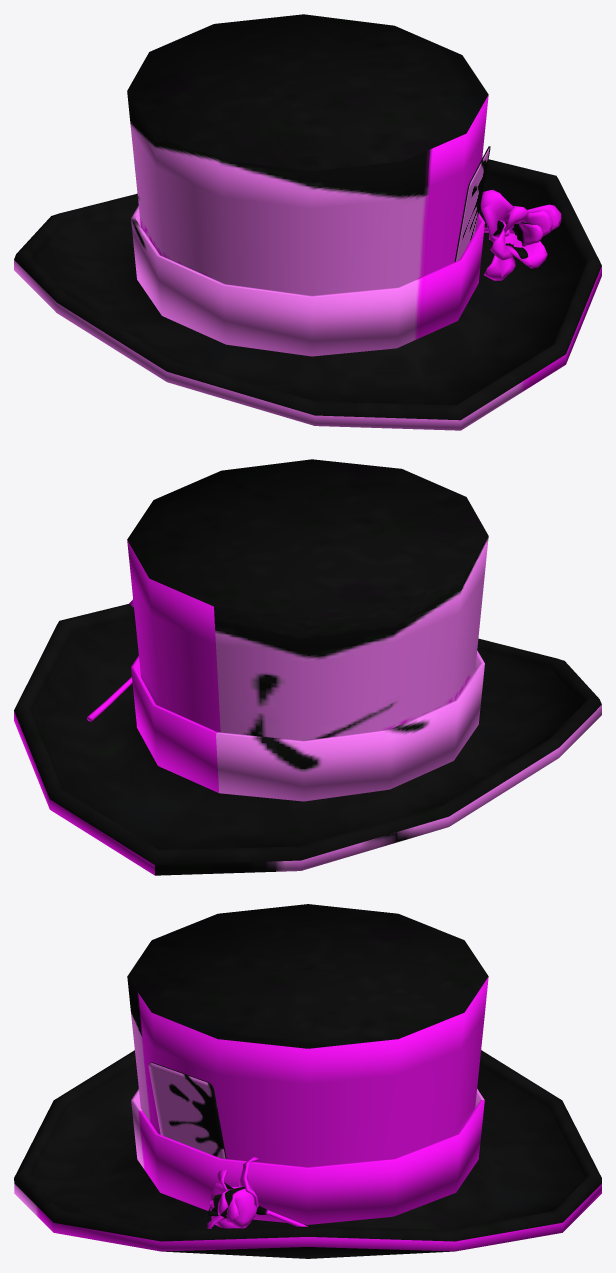
File: Hat_01.fbx
3 views of the same model, one above another, from view 1: azimuth 30°, elevation 25°; view 2: azimuth 150°, elevation 25°; view 3: azimuth 270°, elevation 25° (orthographic). The views are drawn at different scales.
Parts seen in each view (by area): view 1: hat1; view 2: hat1; view 3: hat1.
Part boxes in pixels (x1=…): hat1: x1=14, y1=14, x2=601, y2=430; hat1: x1=14, y1=459, x2=601, y2=875; hat1: x1=14, y1=904, x2=601, y2=1258.
Size of the model in its own units: 190 by 81.57 by 200.
